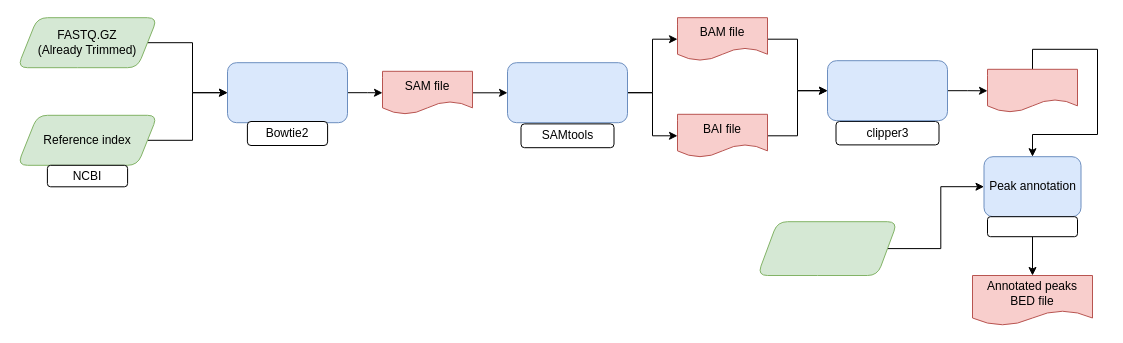
Some shapes in this 1123 by 343 pixel diagram are drawn without their labels. The centre of each missing label's shape, as x and y in pixels:
Alignment to reference genome.: point (287, 92)
BED file: point (1032, 90)
BED tools: point (1032, 226)
Genome of reference GFF file: point (827, 248)
Peak calling: point (887, 90)
SAM to BAM transformation and BAM index creation: point (567, 92)
